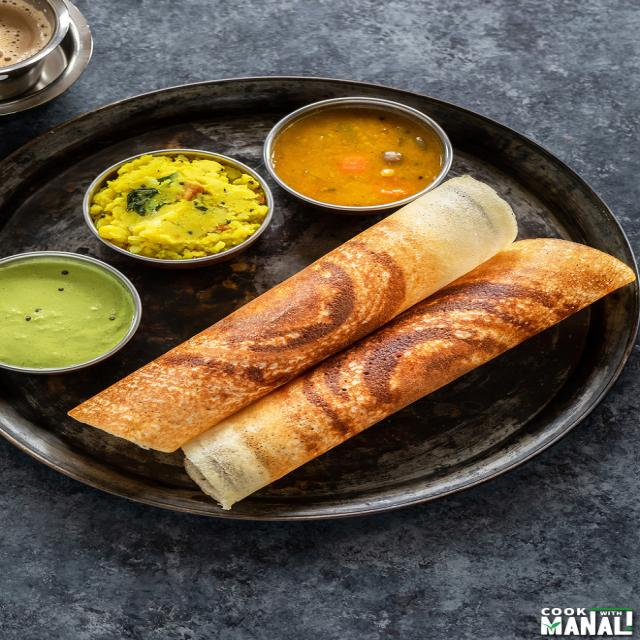DOSA: (67, 173, 513, 452)
